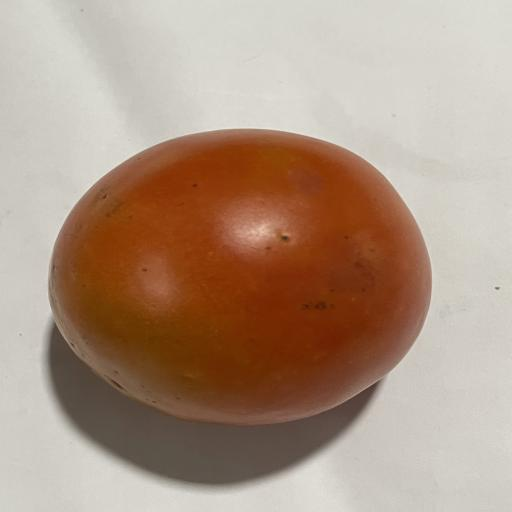ripe: (49, 130, 431, 425)
